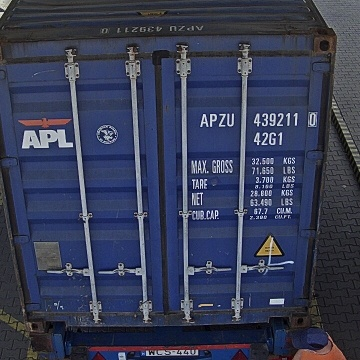serial_id: (200, 112, 317, 127)
